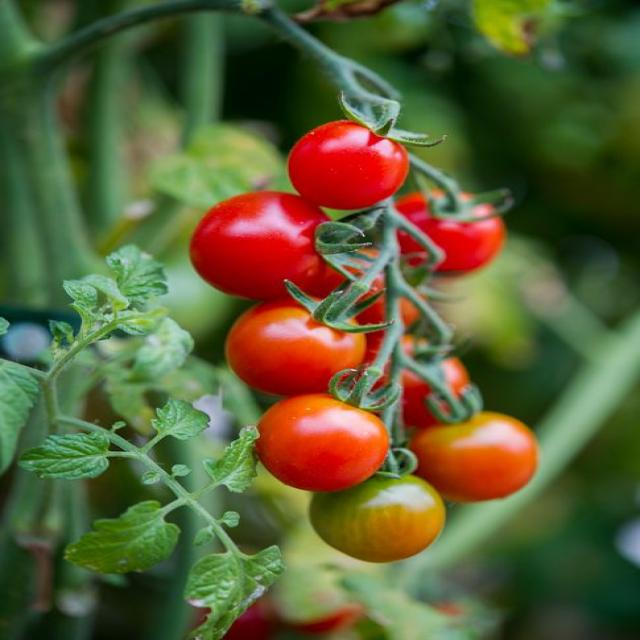level 3: (311, 470, 444, 565)
level 5: (354, 336, 484, 432), (264, 398, 382, 492), (427, 414, 544, 505)
level 6: (190, 191, 336, 301), (243, 289, 371, 398), (284, 122, 405, 210), (394, 189, 504, 272)
